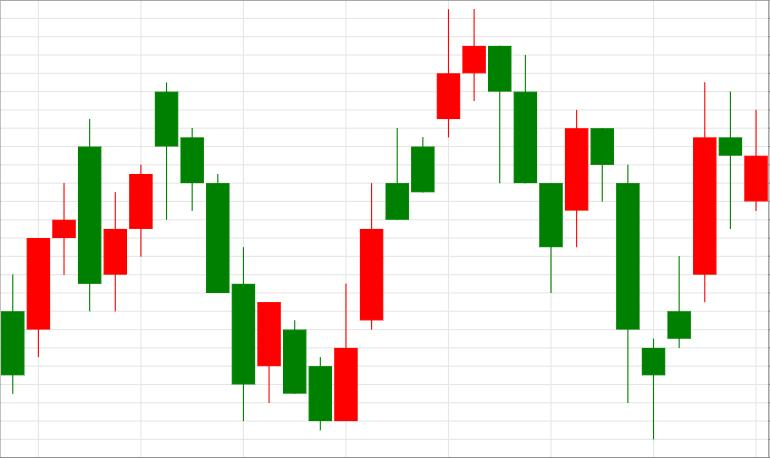three_black_crows_fall: (334, 8, 562, 422)
